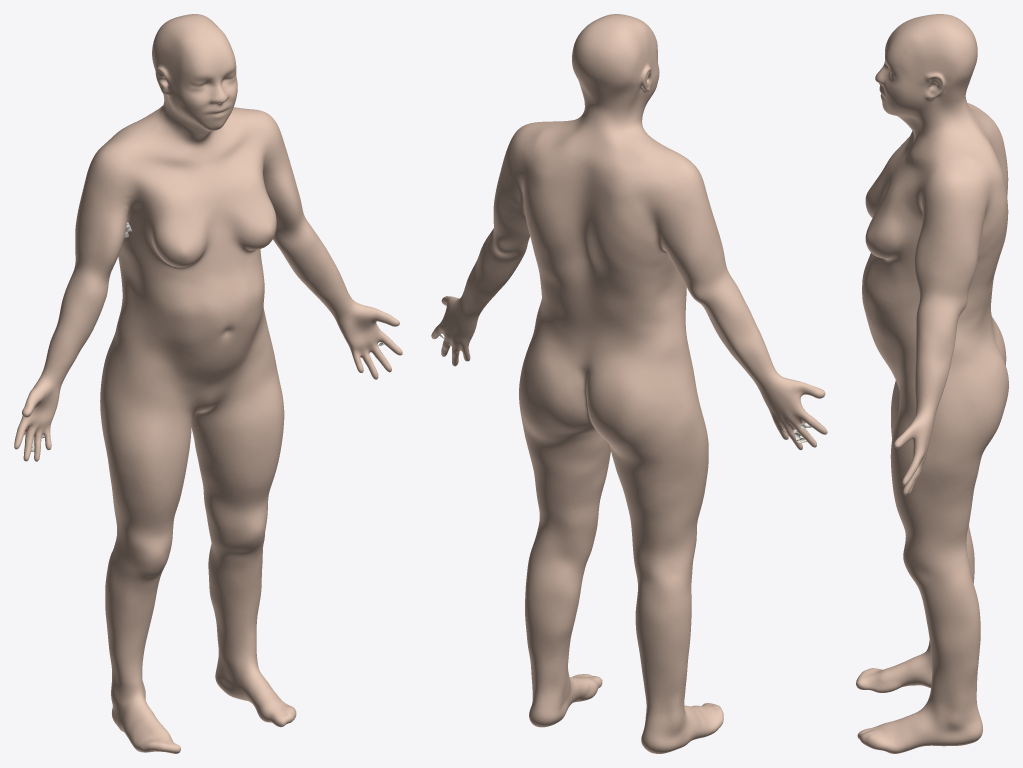
Rendered from detail-female.glb.
3 renders of one model, left to right at view 1: azimuth 30°, elevation 25°; view 2: azimuth 150°, elevation 25°; view 3: azimuth 270°, elevation 25°, orthographic.
Visible parts, largest first — view 1: skin_hi; view 2: skin_hi; view 3: skin_hi.
Part boxes in pixels (x1,y1,x2,y2): skin_hi: (14,14,402,753); skin_hi: (431,14,827,753); skin_hi: (856,14,1008,753).
Size of the model in its own units: 0.9399 by 1.62 by 0.3196.
